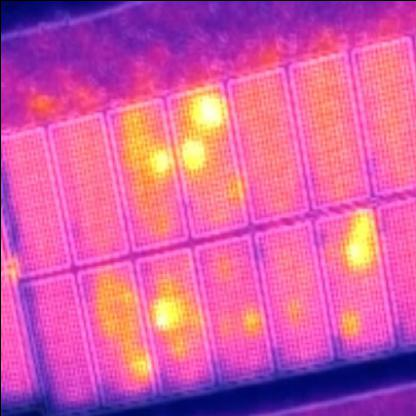Defects: (196, 94, 222, 126), (342, 233, 366, 262), (184, 138, 202, 164)
